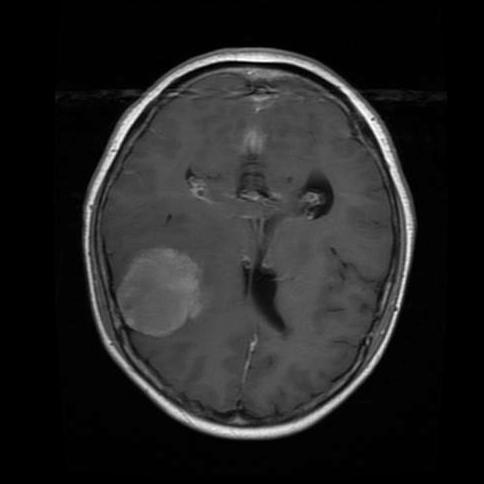Tumour-Meningioma: (106, 219, 234, 344)
